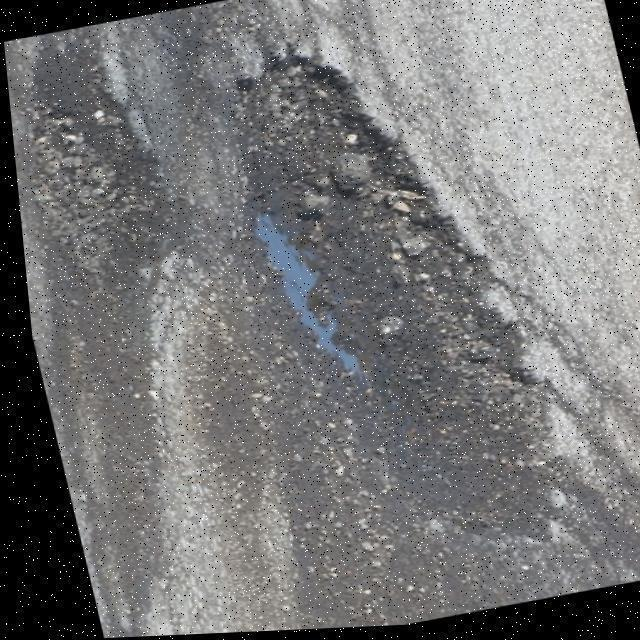Pothole: (232, 45, 562, 551)
